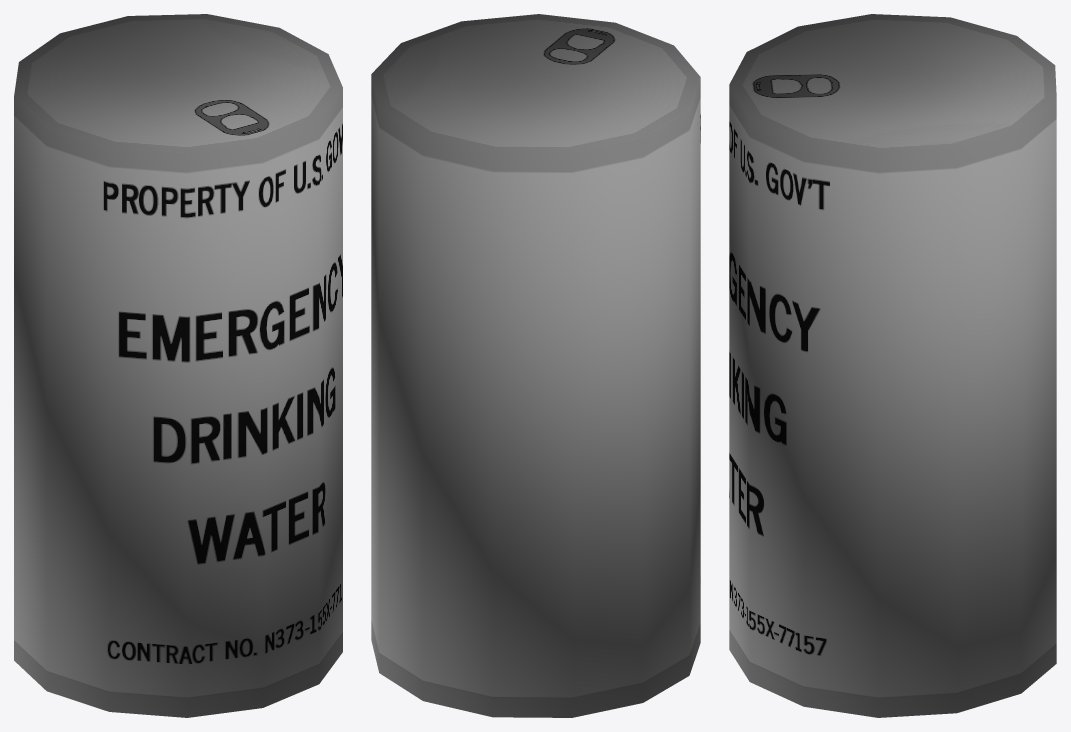
The model's file is EmergencyWaterRation.fbx.
The picture shows the model from 3 angles, left to right: view 1: azimuth 30°, elevation 25°; view 2: azimuth 150°, elevation 25°; view 3: azimuth 270°, elevation 25°; orthographic projection.
Parts seen in each view (by area): view 1: Cylinder; view 2: Cylinder; view 3: Cylinder.
Part boxes in pixels (x1=…): Cylinder: x1=14, y1=14, x2=342, y2=717; Cylinder: x1=371, y1=14, x2=700, y2=717; Cylinder: x1=729, y1=14, x2=1056, y2=717.
Bounding box in the file's own units: 0.0724 × 0.1371 × 0.0721.
